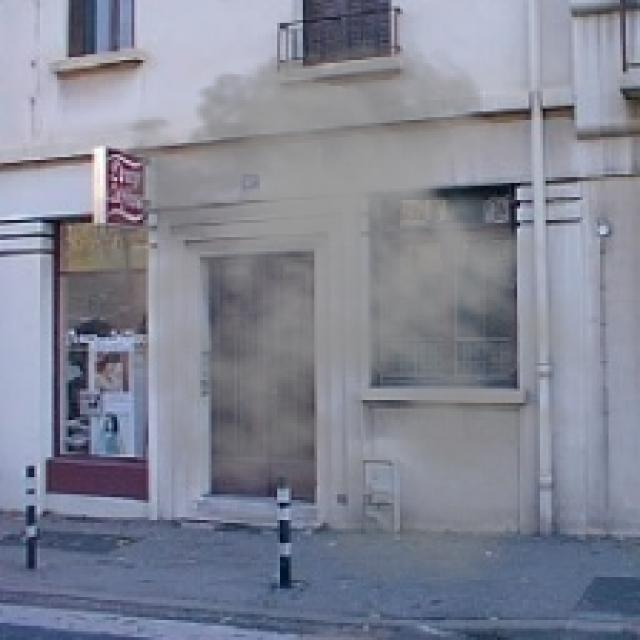Smoke: (63, 29, 632, 592)
